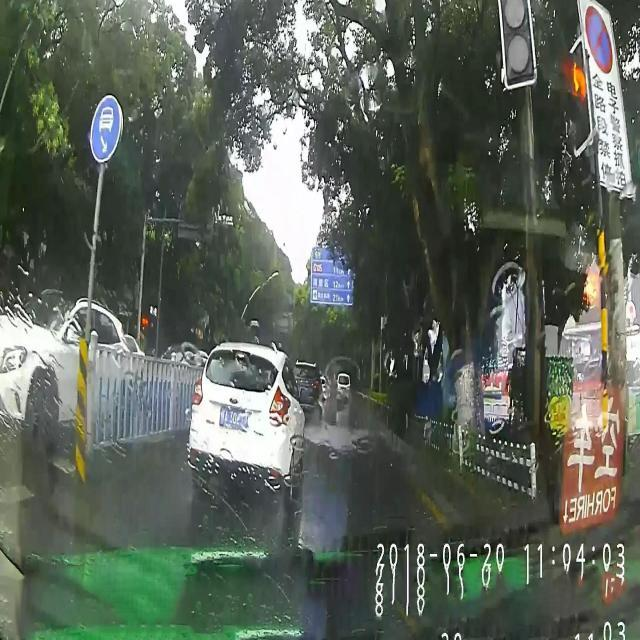car: (0, 286, 134, 454), (186, 339, 306, 512), (146, 342, 204, 414), (292, 359, 322, 422), (336, 372, 350, 402)
